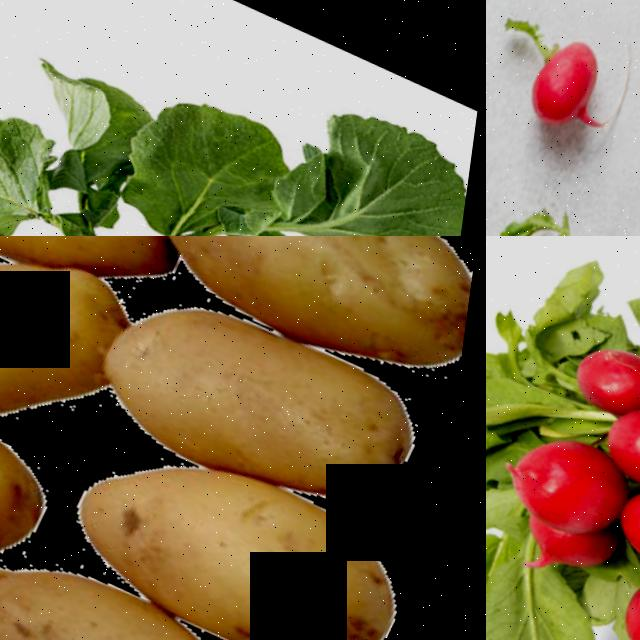potato: (77, 258, 452, 520), (46, 399, 445, 640), (120, 236, 486, 389), (0, 518, 336, 640), (0, 236, 145, 467), (0, 362, 73, 599)
radishes: (486, 236, 640, 640), (0, 156, 410, 236)
spinach: (490, 9, 624, 136)
